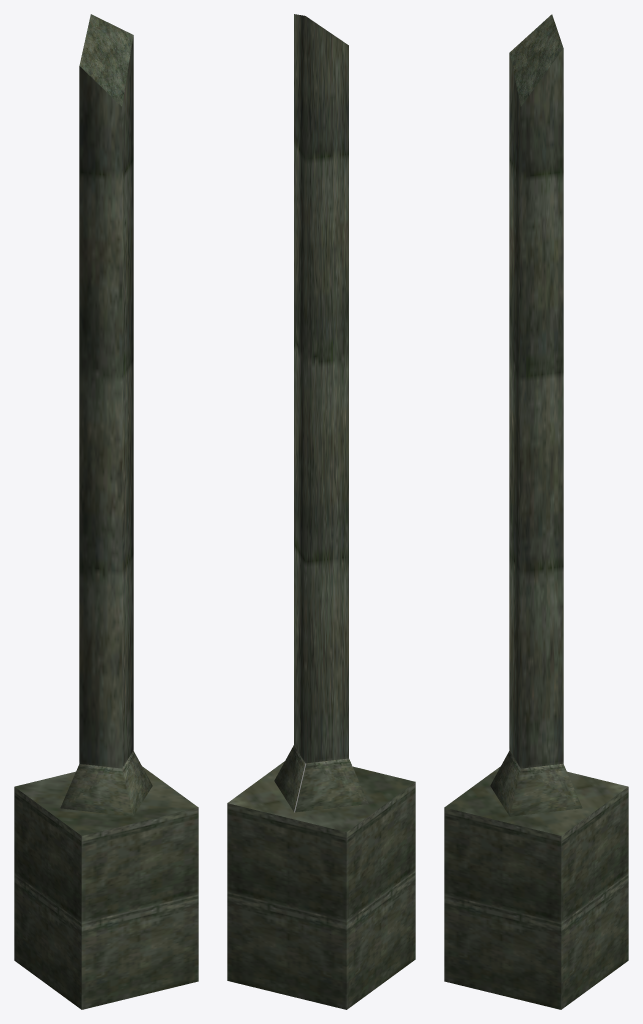
File: thm_dant_jedi_temple_pillar_l3.fbx
3 views of the same model, side by side, from view 1: azimuth 30°, elevation 25°; view 2: azimuth 150°, elevation 25°; view 3: azimuth 330°, elevation 25° (orthographic). The views are drawn at different scales.
Visible parts, largest first — view 1: mesh_node; view 2: mesh_node; view 3: mesh_node.
Boxes of the visible parts, x1,y1,x2,y2 form: mesh_node: (14,14,198,1009); mesh_node: (227,14,415,1009); mesh_node: (444,14,628,1009).
Size of the model in its own units: 2 by 15.47 by 2.
1 material, 1 textured.
